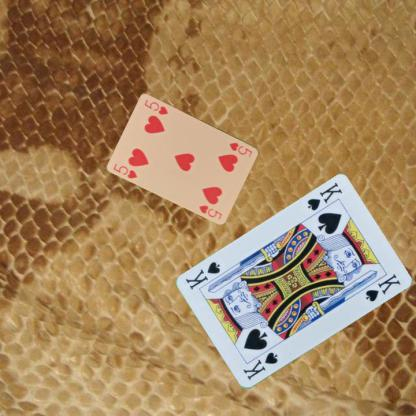5h: (111, 161, 139, 180), (227, 140, 254, 158)
Ks: (240, 349, 279, 382), (304, 180, 344, 212)
